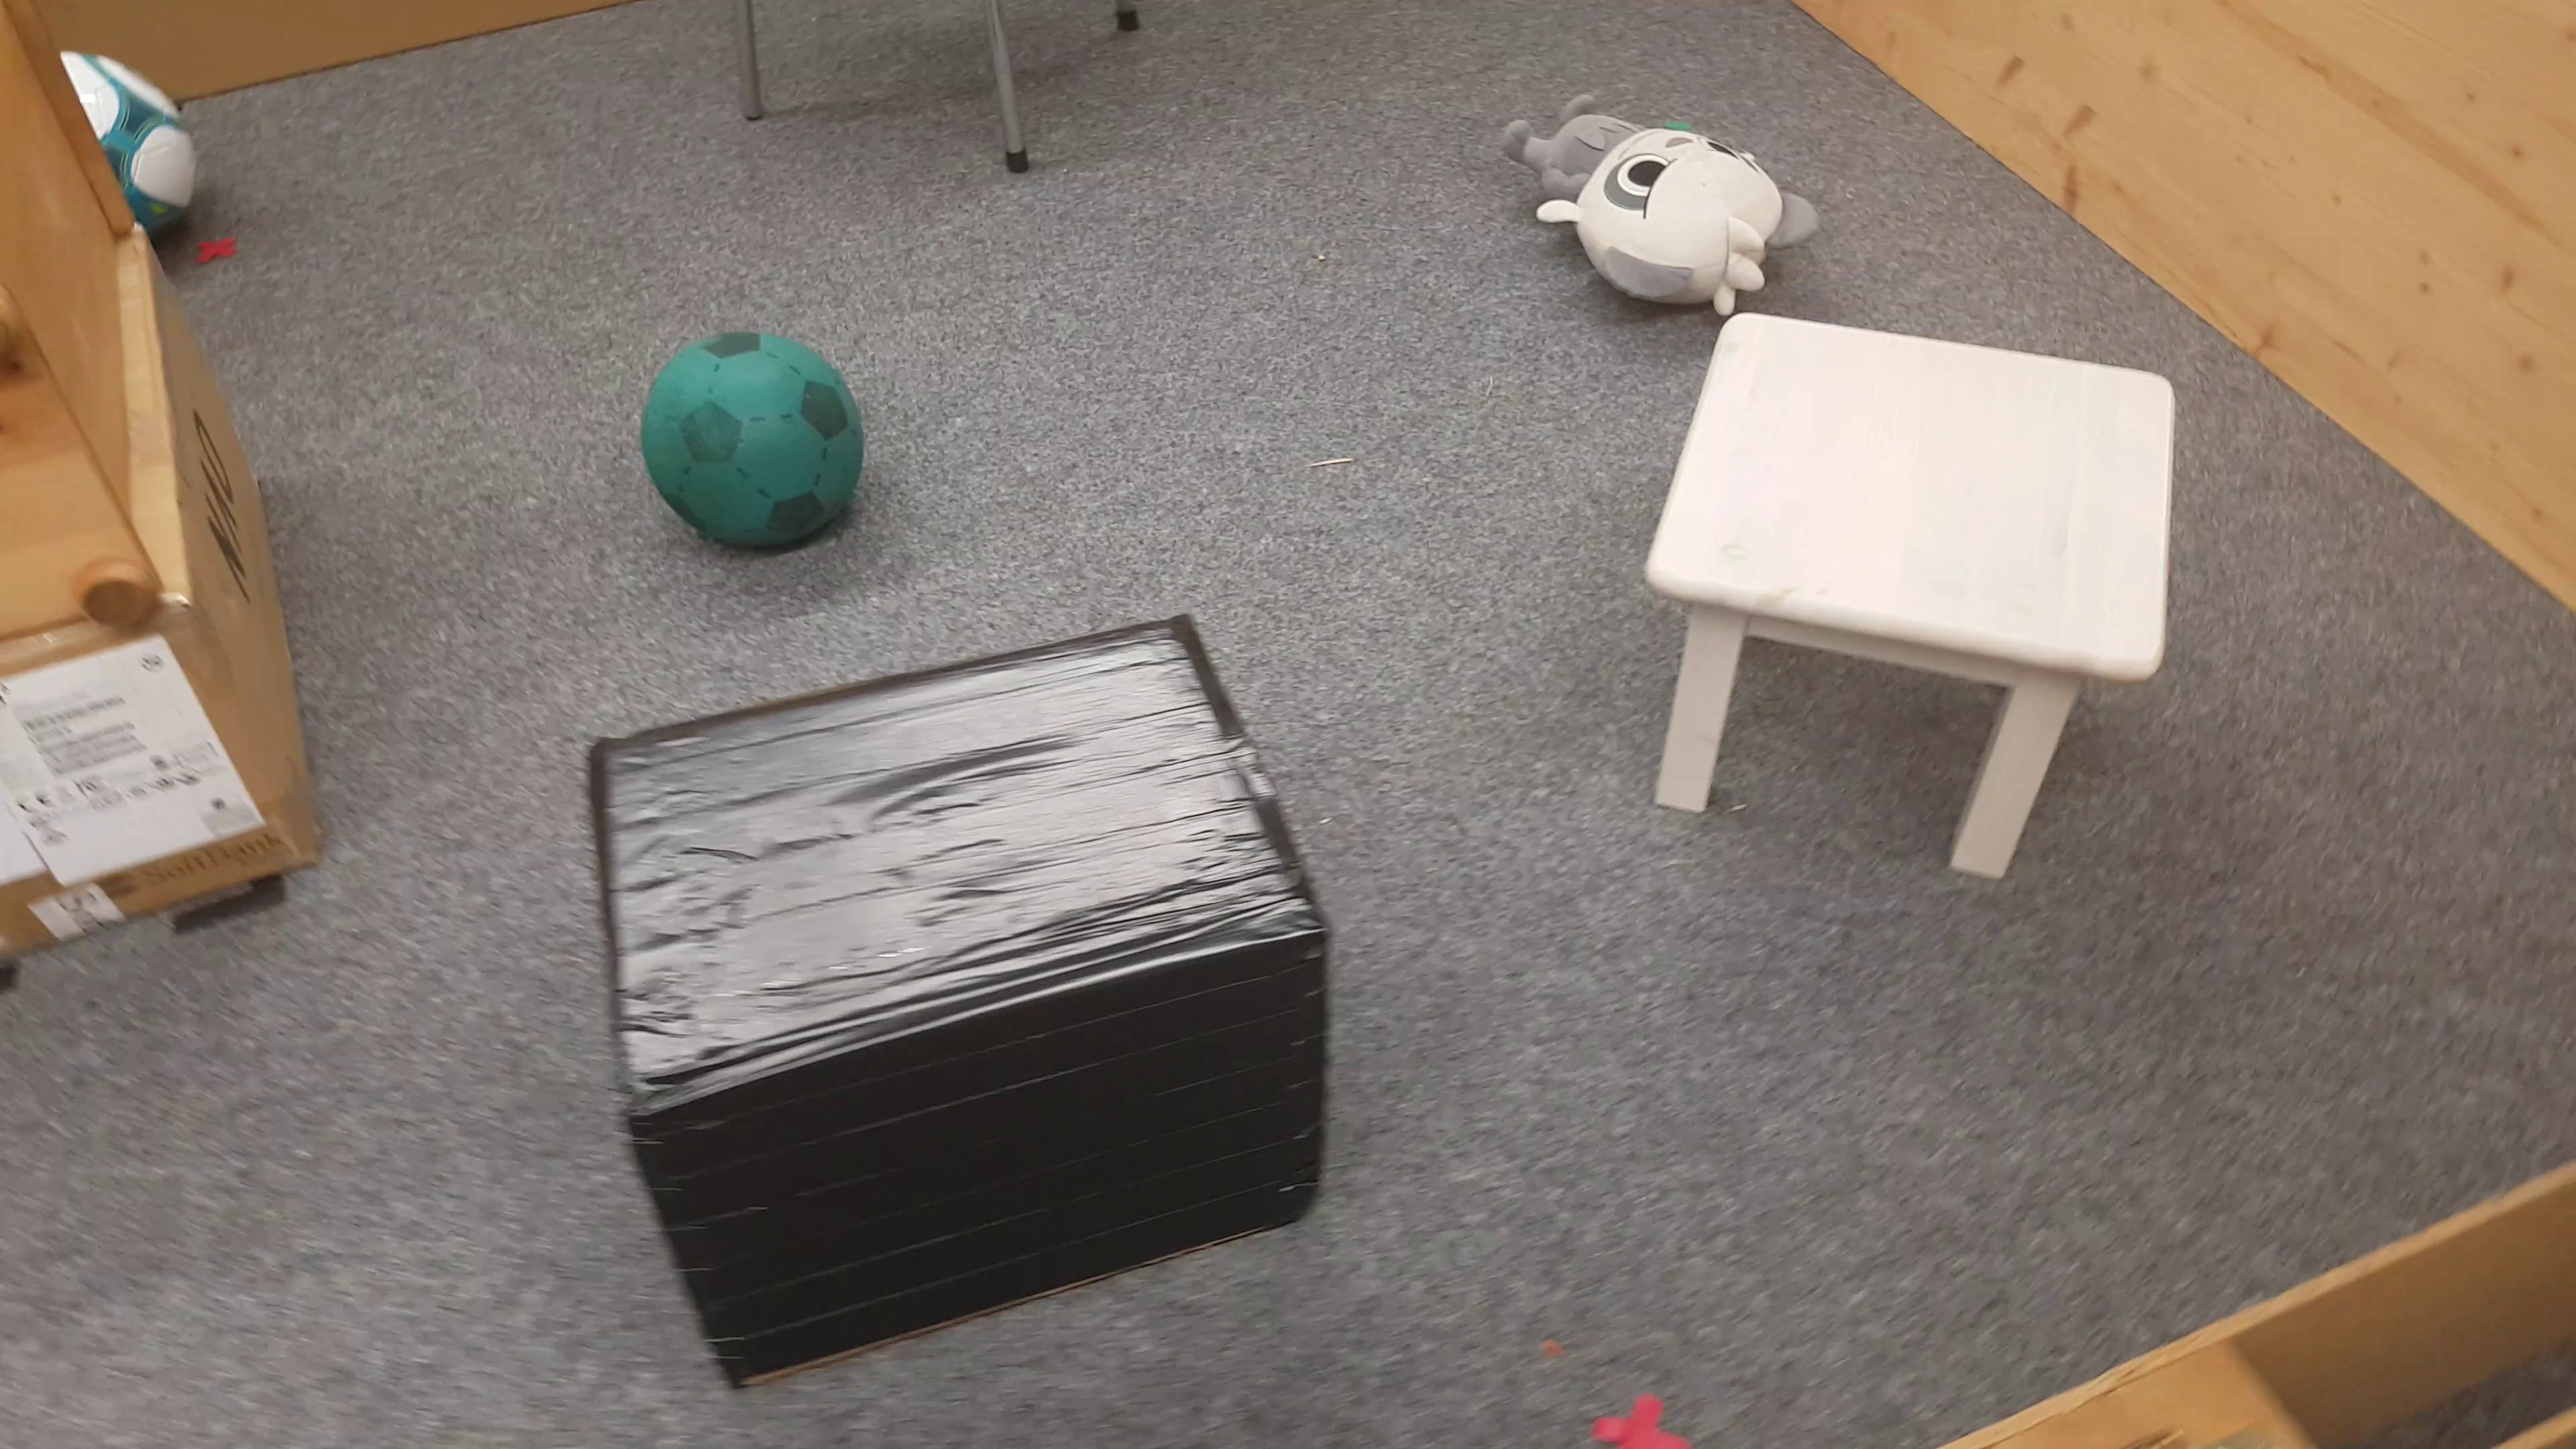grasp: (1509, 88, 1803, 303)
kick: (644, 336, 862, 538), (67, 46, 209, 234)
push: (573, 625, 1345, 1366)
